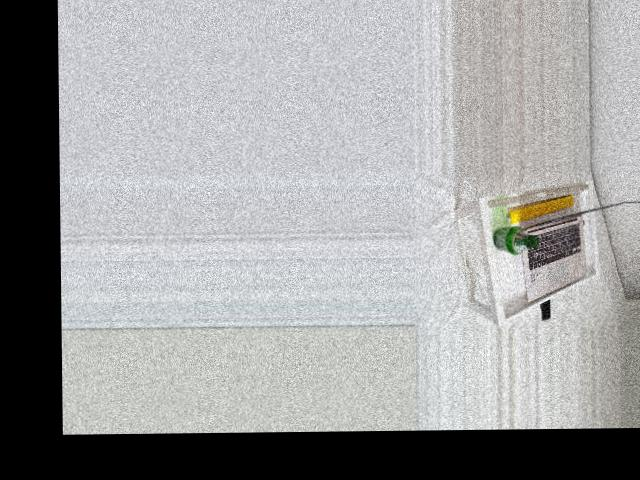beer: (492, 225, 538, 254)
